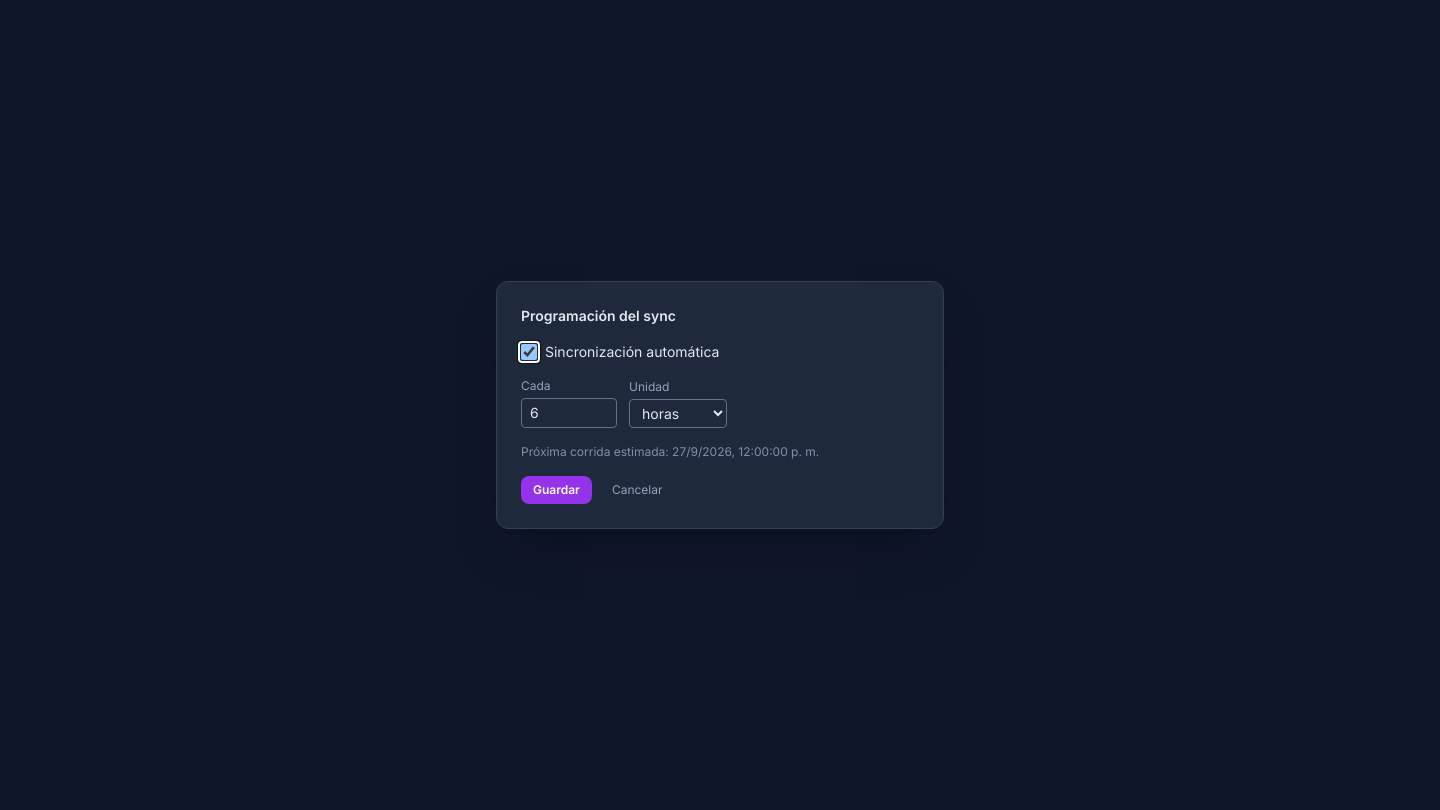
DialogoProgramacionSync › un 422 de config inválida se traduce y se muestra
Click the button "Guardar" at (556, 490), box [521,476,592,504]
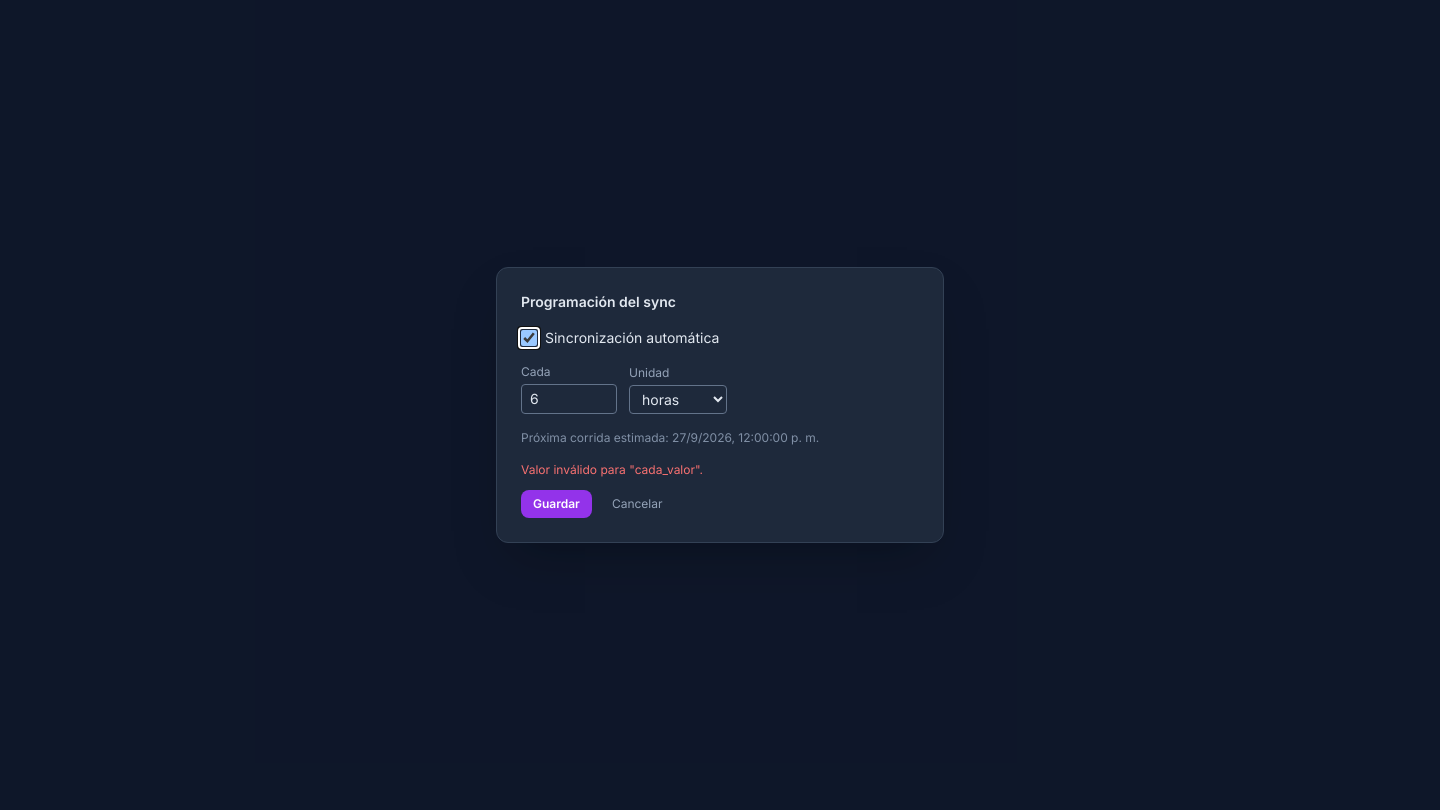
Expected: the text "Valor inválido para \"cada_valor\"." is shown, [521,462,703,477]
